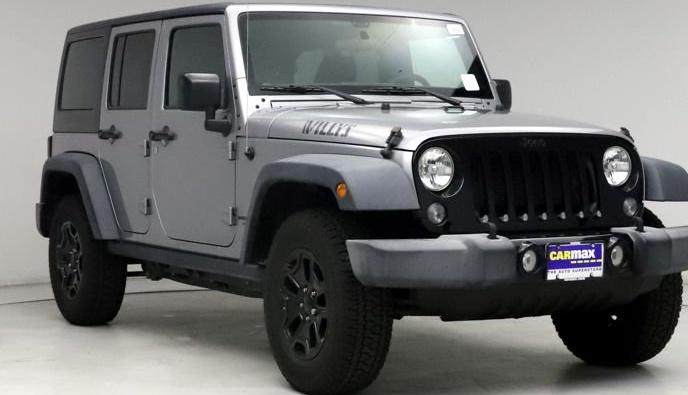SUV: (36, 4, 688, 394)
